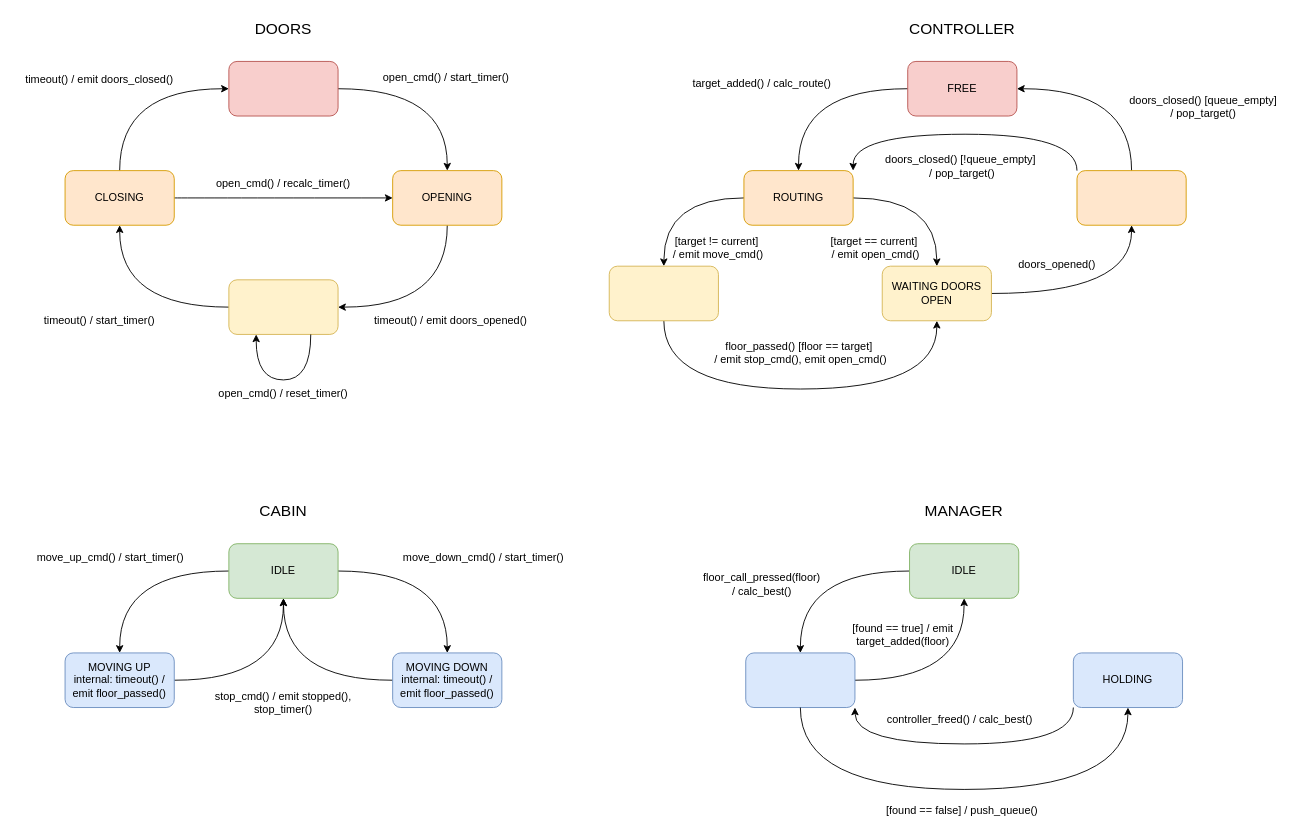
The diagram is 1296 pixels wide and 833 high, and some of its shapes have lost their labels. Here are the shapes that lost their labels. From the top down, the box of each, then its label:
(228, 61, 338, 116): CLOSED
(1076, 170, 1186, 225): WAITING DOORS CLOSE
(228, 279, 338, 334): OPENED
(608, 265, 718, 321): WAITING CABIN
(745, 652, 855, 708): DECISION
